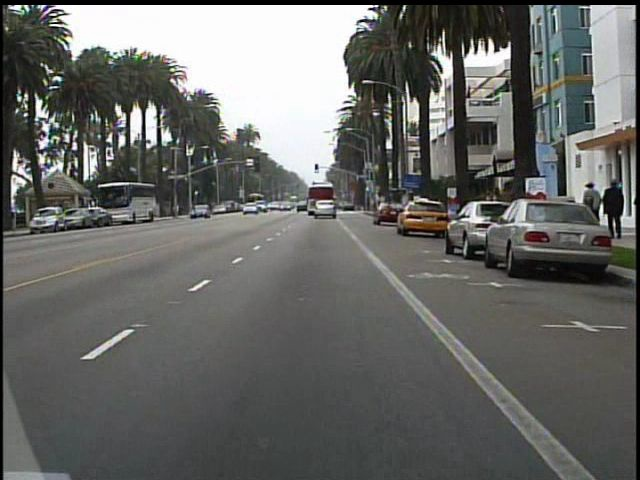person: (601, 175, 624, 241), (578, 179, 600, 240)
